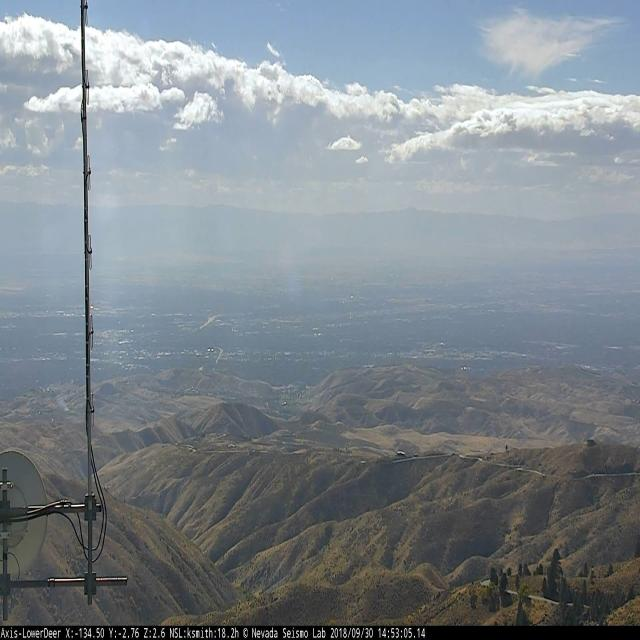smoke: (56, 396, 69, 411)
